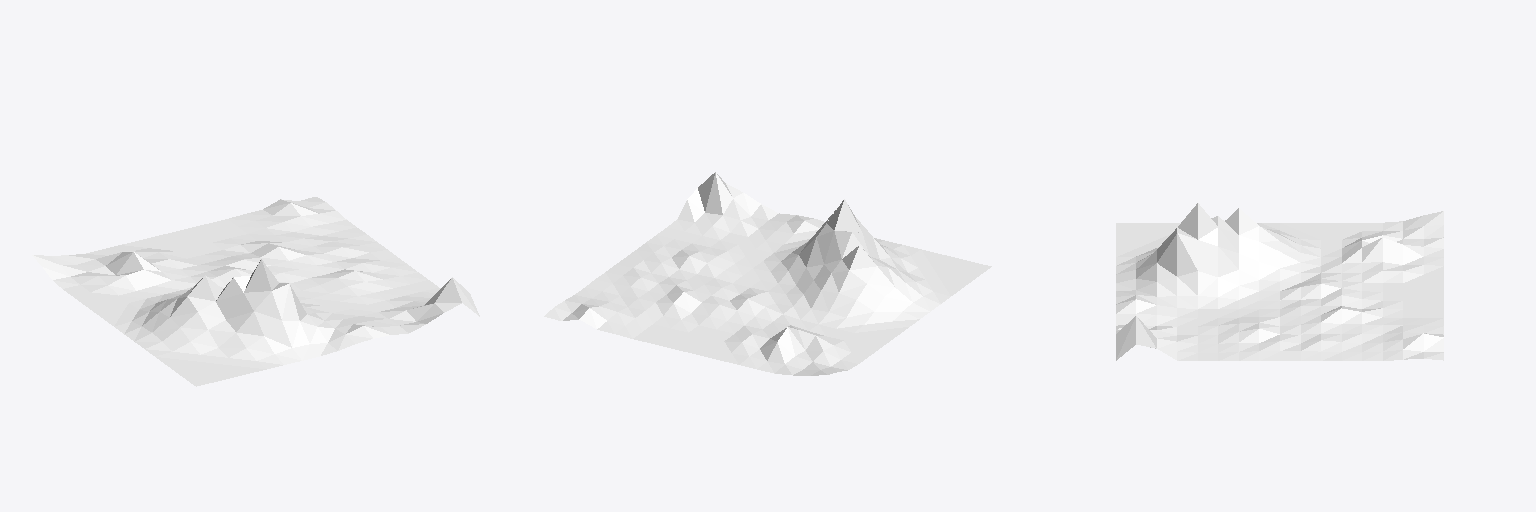
File: mountains.obj
3 renders of one model, left to right at view 1: azimuth 30°, elevation 25°; view 2: azimuth 150°, elevation 25°; view 3: azimuth 270°, elevation 25°, orthographic.
Visible parts, largest first — view 1: Plane; view 2: Plane; view 3: Plane.
Part boxes in pixels (left/top/right/bottom): Plane: left=32, top=197, right=479, bottom=386; Plane: left=544, top=172, right=991, bottom=375; Plane: left=1116, top=203, right=1443, bottom=360.
Size of the model in its own units: 13.85 by 3.35 by 13.85.